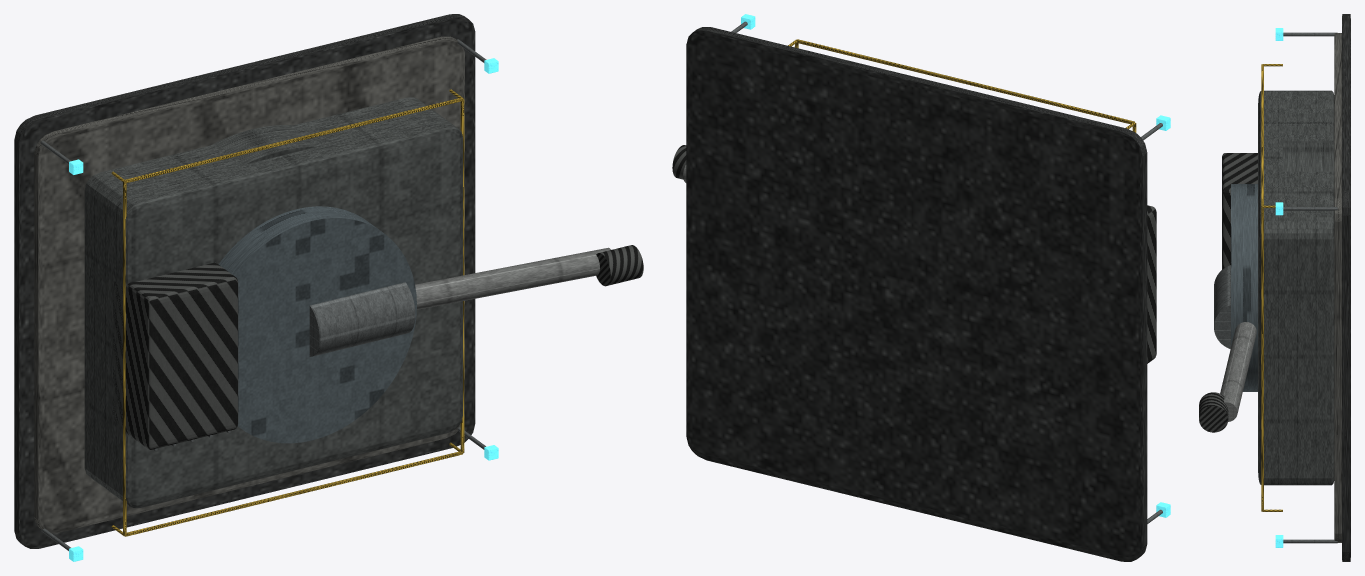
The model's file is b-30-cannon-turret-lod0.glb.
3 views of the same model, side by side, from view 1: azimuth 30°, elevation 25°; view 2: azimuth 150°, elevation 25°; view 3: azimuth 270°, elevation 25° (orthographic). The views are drawn at different scales.
Visible parts, largest first — view 1: primary_hex_bunker, foundation_inner_pad, primary_turret_yaw, foundation, rear_ammunition_container, recoil_sleeve, heavy_cannon_barrel_0, turret_base, turret_service_railing_rail_x_3.7, turret_service_railing_rail_x_-3.7, heavy_cannon_muzzle_0, turret_service_railing_rail_y_-3.7 (+1 smaller); view 2: foundation, turret_service_railing_rail_x_3.7, rear_ammunition_container; view 3: primary_hex_bunker, foundation, primary_turret_yaw, foundation_inner_pad, heavy_cannon_barrel_0, rear_ammunition_container, turret_base, recoil_sleeve, heavy_cannon_muzzle_0, turret_service_railing_rail_y_3.7, turret_service_railing_rail_x_3.7, perimeter_light_4.55_-4.05 (+2 smaller).
Part boxes in pixels (left/top/right/bottom): primary_hex_bunker: left=84, top=97, right=462, bottom=507; foundation_inner_pad: left=34, top=36, right=464, bottom=533; primary_turret_yaw: left=218, top=206, right=416, bottom=443; foundation: left=14, top=14, right=475, bottom=548; rear_ammunition_container: left=113, top=262, right=238, bottom=449; recoil_sleeve: left=309, top=282, right=415, bottom=356; heavy_cannon_barrel_0: left=415, top=247, right=610, bottom=309; turret_base: left=211, top=125, right=317, bottom=164; turret_service_railing_rail_x_3.7: left=124, top=97, right=462, bottom=182; turret_service_railing_rail_x_-3.7: left=125, top=451, right=462, bottom=536; heavy_cannon_muzzle_0: left=596, top=245, right=643, bottom=286; turret_service_railing_rail_y_-3.7: left=123, top=181, right=126, bottom=535; foundation: left=686, top=27, right=1147, bottom=561; turret_service_railing_rail_x_3.7: left=796, top=39, right=1134, bottom=124; rear_ammunition_container: left=1147, top=205, right=1156, bottom=363; primary_hex_bunker: left=1258, top=90, right=1334, bottom=485; foundation: left=1342, top=14, right=1350, bottom=561; primary_turret_yaw: left=1231, top=184, right=1257, bottom=391; foundation_inner_pad: left=1334, top=33, right=1341, bottom=542; heavy_cannon_barrel_0: left=1220, top=322, right=1256, bottom=421; rear_ammunition_container: left=1222, top=153, right=1257, bottom=269; turret_base: left=1283, top=139, right=1334, bottom=180; recoil_sleeve: left=1214, top=265, right=1230, bottom=348; heavy_cannon_muzzle_0: left=1199, top=392, right=1228, bottom=432; turret_service_railing_rail_y_3.7: left=1261, top=207, right=1263, bottom=511; turret_service_railing_rail_x_3.7: left=1261, top=64, right=1263, bottom=206; perimeter_light_4.55_-4.05: left=1283, top=539, right=1337, bottom=543.
Size of what is drawn, in the model's own units: 11.86 by 9 by 3.35.
9 materials, 9 textured.
